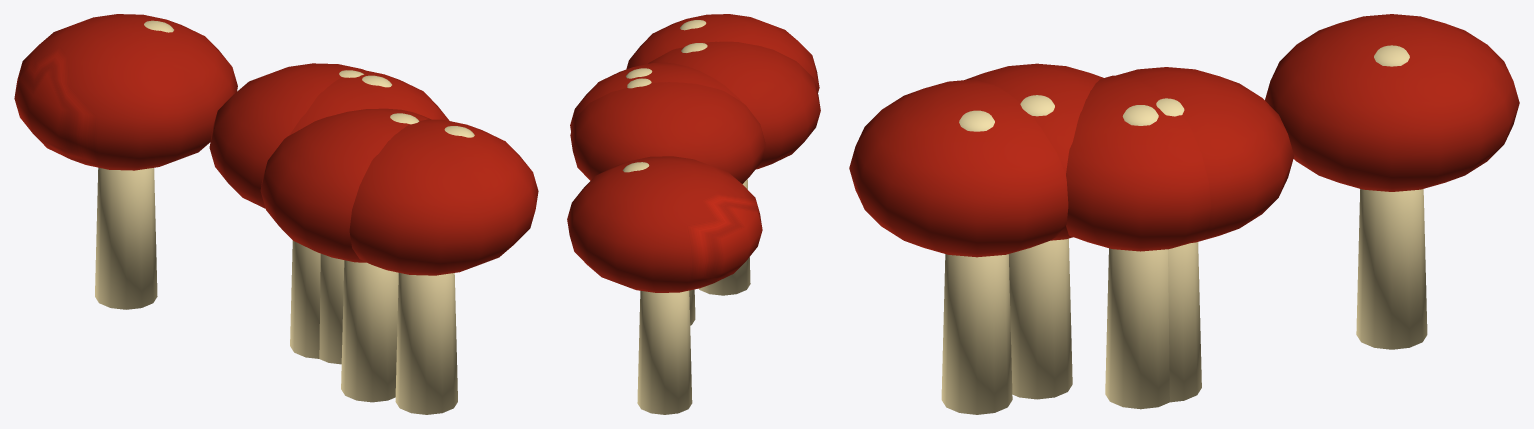
The model's file is Foliage_4.fbx.
The picture shows the model from 3 angles, left to right: view 1: azimuth 30°, elevation 25°; view 2: azimuth 150°, elevation 25°; view 3: azimuth 270°, elevation 25°; orthographic projection. The views are drawn at different scales.
Parts seen in each view (by area): view 1: Foliage_4; view 2: Foliage_4; view 3: Foliage_4.
Part boxes in pixels (x1,y1,x2,y2): Foliage_4: (14,14,538,414); Foliage_4: (567,14,820,414); Foliage_4: (849,14,1519,414).
Size of the model in its own units: 28.85 by 23.5 by 47.2.
1 material, 1 textured.
